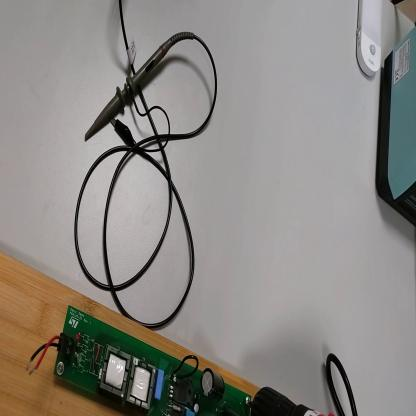electric screwdriver: (250, 386, 335, 416)
high voltage board: (27, 305, 252, 416)
oscilloscope probe tip: (84, 46, 172, 143)
welder station: (374, 25, 416, 229)
working area: (2, 253, 261, 416)
